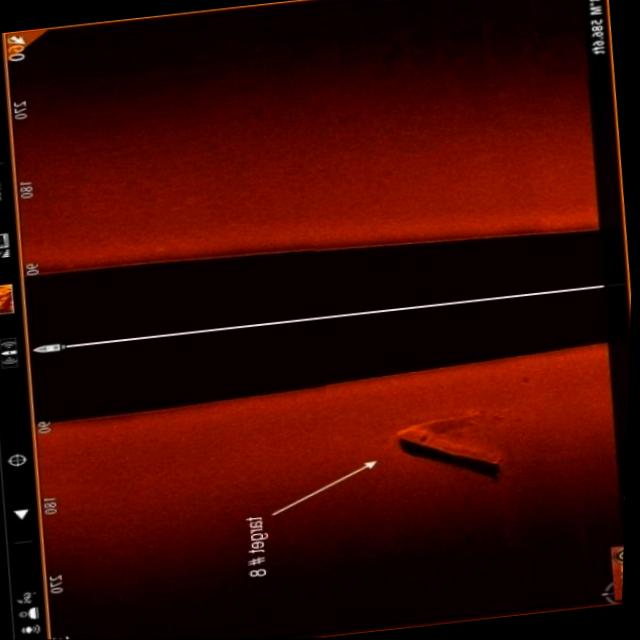shipwreck: (387, 408, 513, 481)
